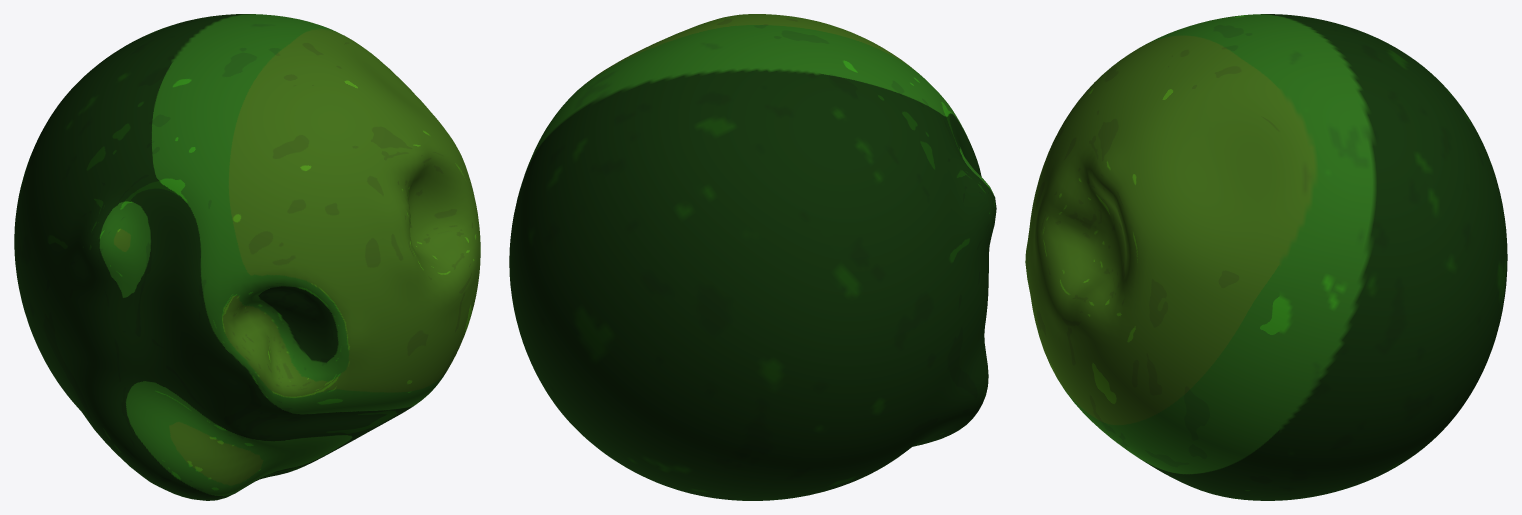
The model's file is grass.glb.
3 views of the same model, side by side, from view 1: azimuth 30°, elevation 25°; view 2: azimuth 150°, elevation 25°; view 3: azimuth 270°, elevation 25° (orthographic). The views are drawn at different scales.
Parts seen in each view (by area): view 1: grass; view 2: grass; view 3: grass.
Boxes of the visible parts, x1,y1,x2,y2 form: grass: (14, 14, 480, 500); grass: (509, 14, 996, 500); grass: (1025, 14, 1507, 500).
Size of the model in its own units: 4.19 by 4.19 by 4.21.
1 material, 1 textured.
